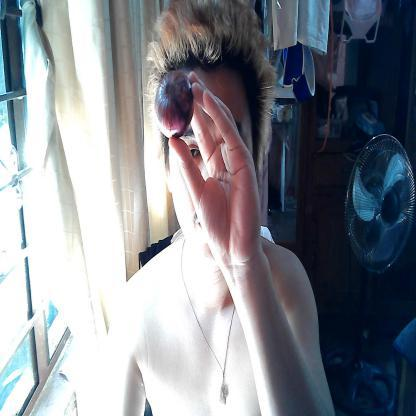onion: (152, 67, 196, 146)
